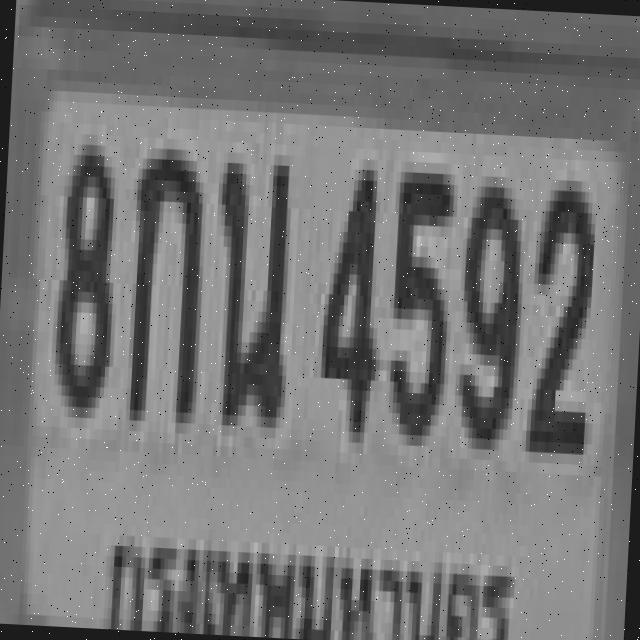10GorGai: (122, 138, 206, 414)
2: (522, 168, 594, 444)
34NorNu: (207, 142, 290, 418)
4: (314, 158, 382, 433)
5: (384, 162, 452, 436)
8: (49, 134, 117, 408)
9: (453, 165, 521, 440)
